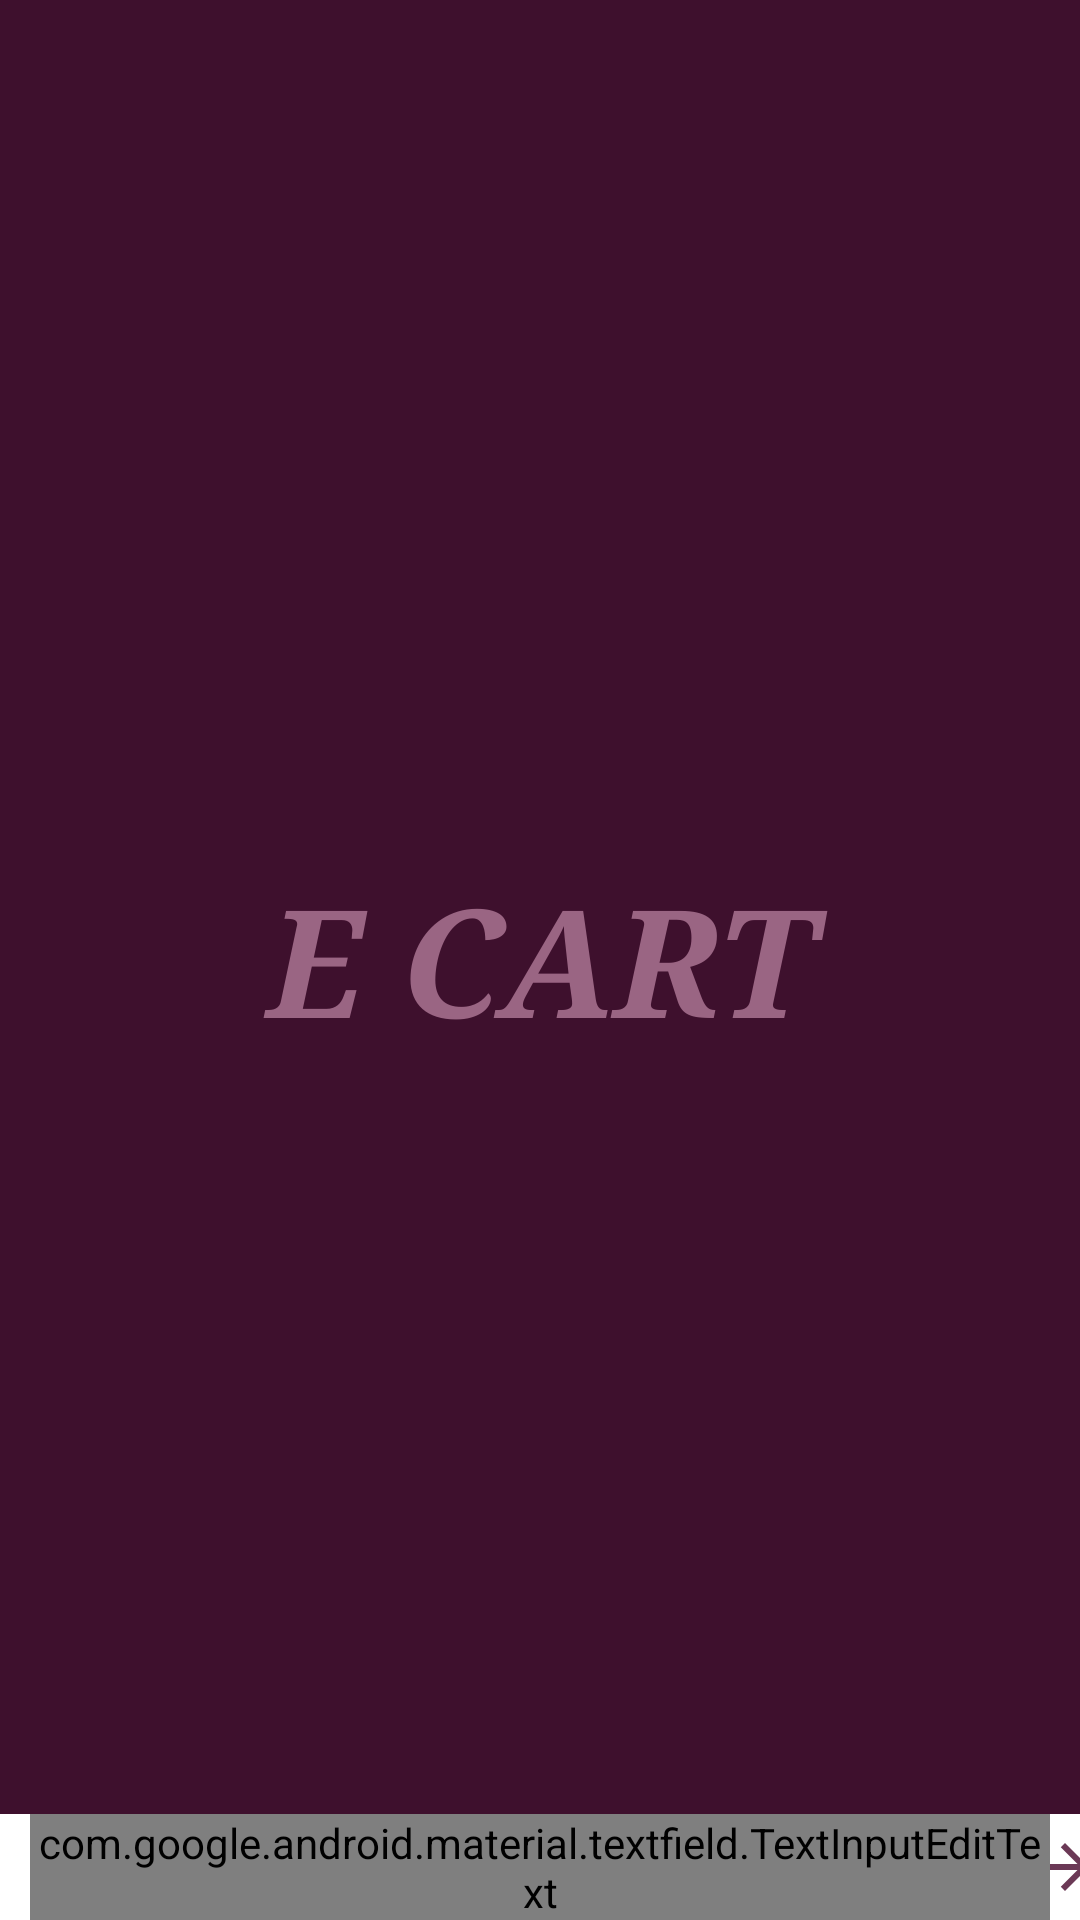

Icons on this 1080w x 1920h Android screen, each with its box as (x1=x1, y1=y1, x2=x2, y2=y2):
arrow forward: (x1=1050, y1=1814, x2=1080, y2=1920)
